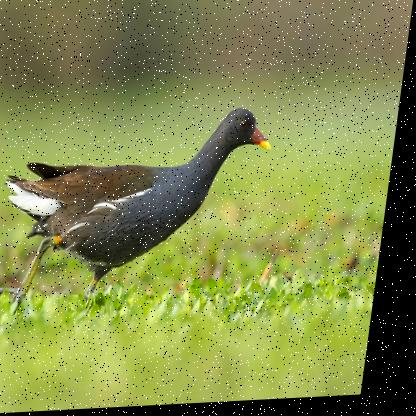Burung: (0, 109, 280, 316)
